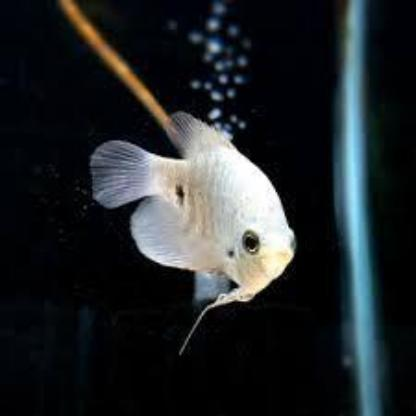gurame: (87, 110, 297, 317)
